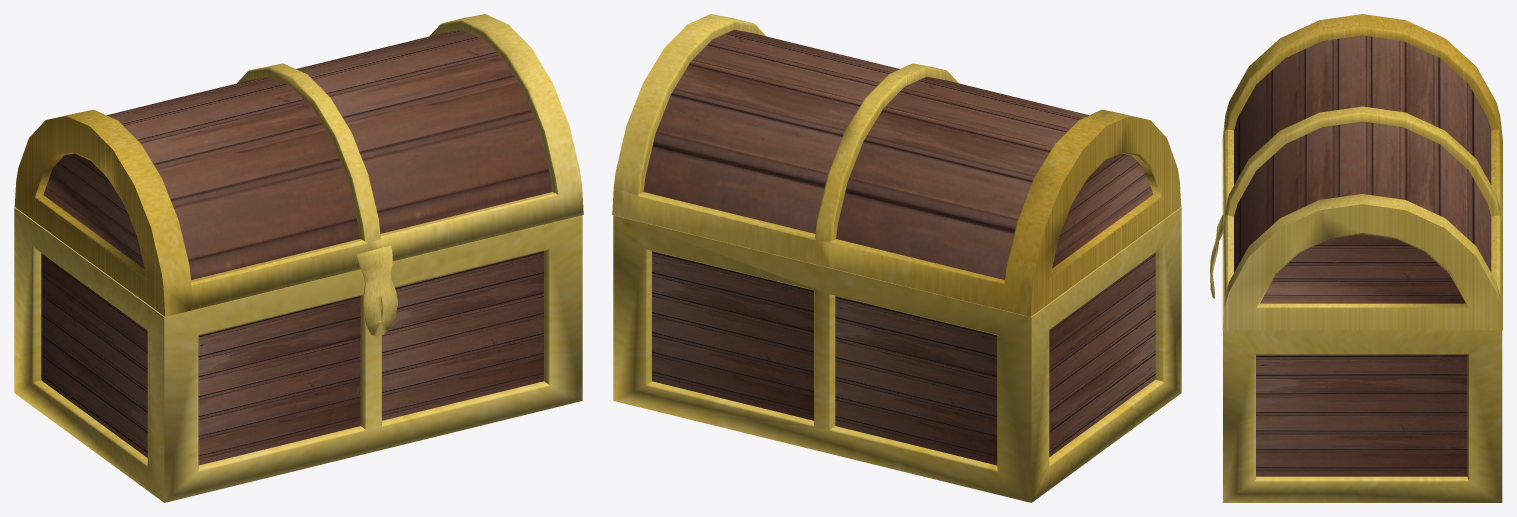
File: Chest.obj
3 views of the same model, side by side, from view 1: azimuth 30°, elevation 25°; view 2: azimuth 150°, elevation 25°; view 3: azimuth 270°, elevation 25° (orthographic). The views are drawn at different scales.
Parts seen in each view (by area): view 1: pCylinder1; view 2: pCylinder1; view 3: pCylinder1.
Boxes of the visible parts, x1,y1,x2,y2 form: pCylinder1: (14,14,583,502); pCylinder1: (612,14,1181,502); pCylinder1: (1210,14,1502,502).
Bounding box in the file's own units: 1.87 × 1.37 × 1.21.
Materials: 1 (1 with a texture image).
